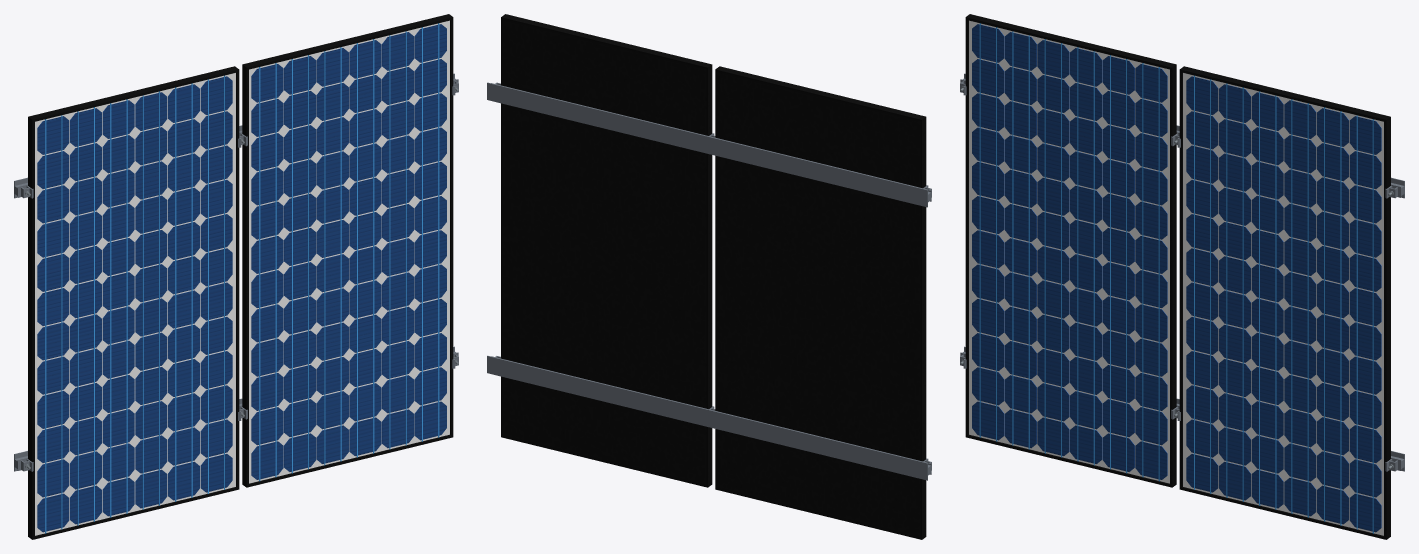
The model's file is solar.gltf.
The picture shows the model from 3 angles, left to right: view 1: azimuth 30°, elevation 25°; view 2: azimuth 150°, elevation 25°; view 3: azimuth 330°, elevation 25°; orthographic projection.
Visible parts, largest first — view 1: 10781_Solar-Panels_V1; view 2: 10781_Solar-Panels_V1; view 3: 10781_Solar-Panels_V1.
Boxes of the visible parts, left/top/right/bottom form: 10781_Solar-Panels_V1: left=14, top=14, right=458, bottom=539; 10781_Solar-Panels_V1: left=487, top=14, right=931, bottom=539; 10781_Solar-Panels_V1: left=960, top=14, right=1404, bottom=539.
Size of the model in its own units: 167 by 152 by 6.33.
Materials: 2 (2 with a texture image).
